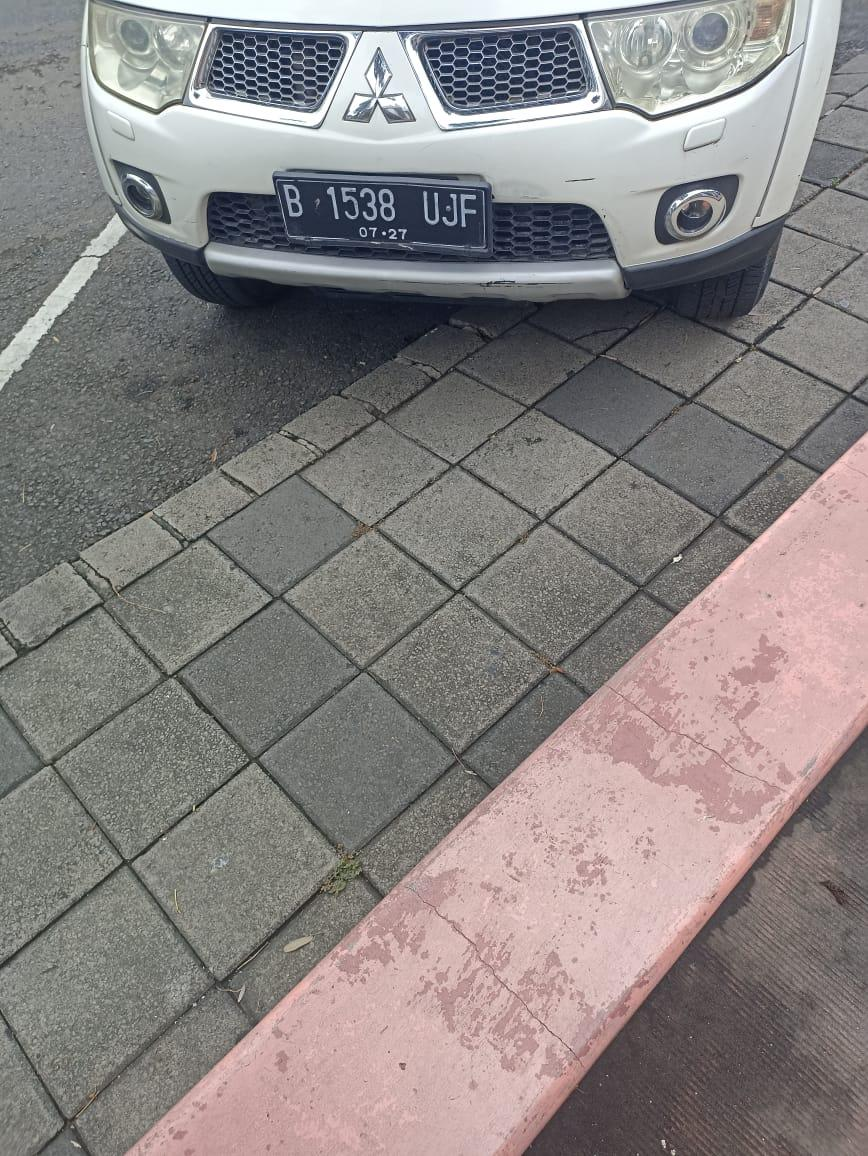plat: (273, 172, 492, 252)
